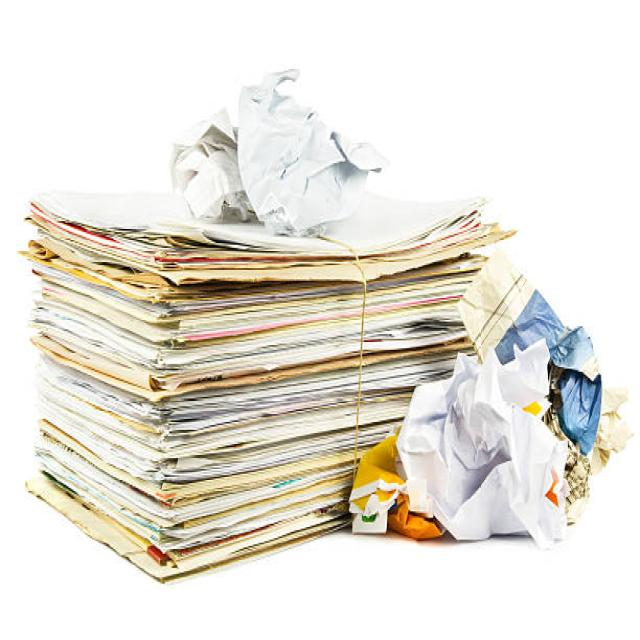paper: (48, 260, 330, 546), (348, 260, 620, 543), (150, 78, 404, 229)
